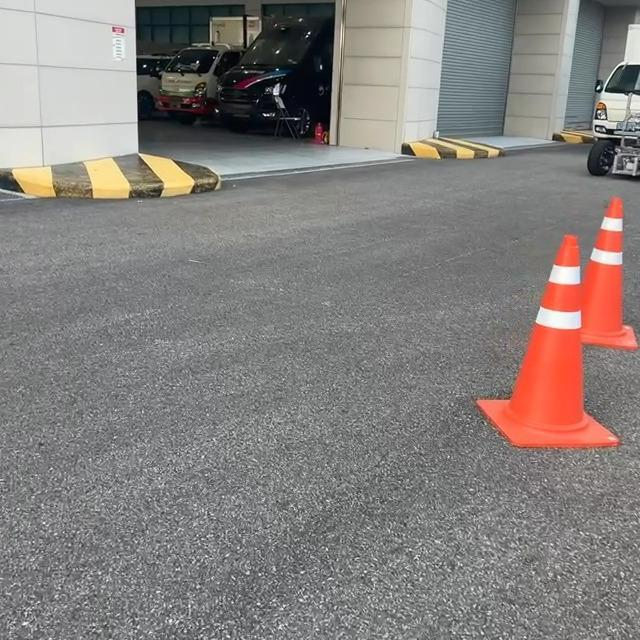fallen_object: (472, 232, 617, 448), (569, 165, 640, 361)
